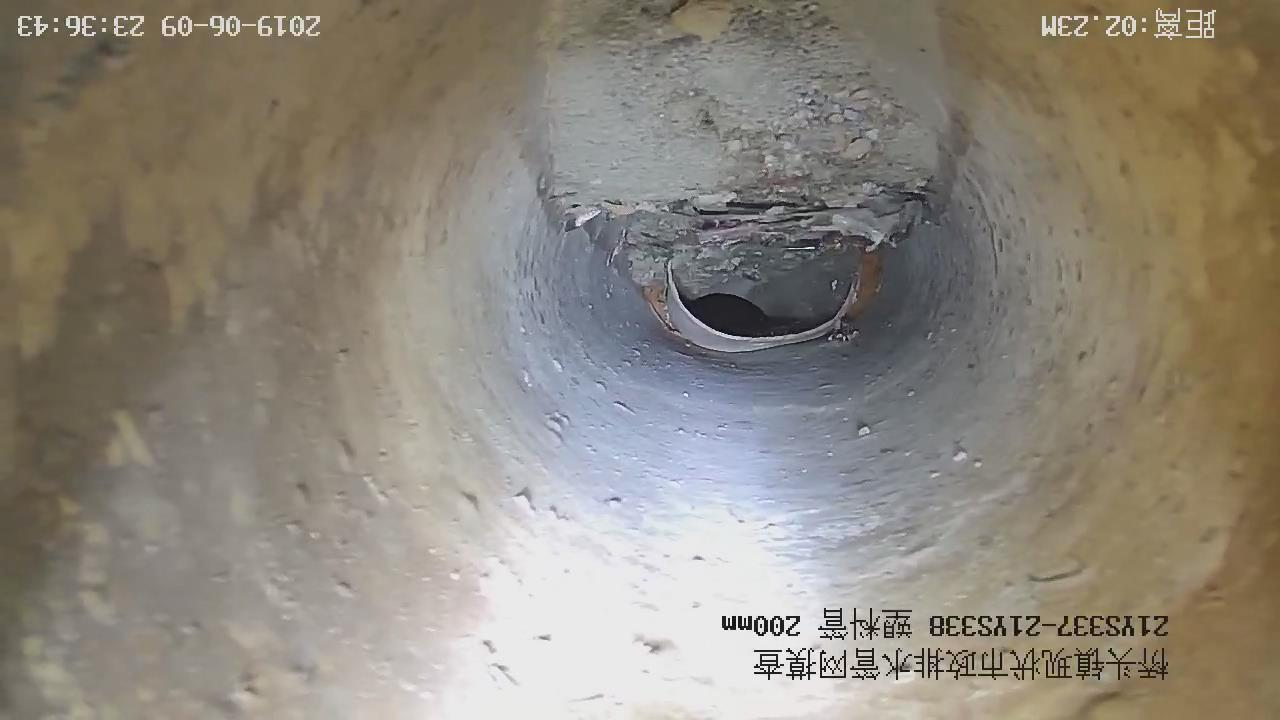BX: (651, 251, 865, 365)
CJ: (546, 1, 938, 293)
